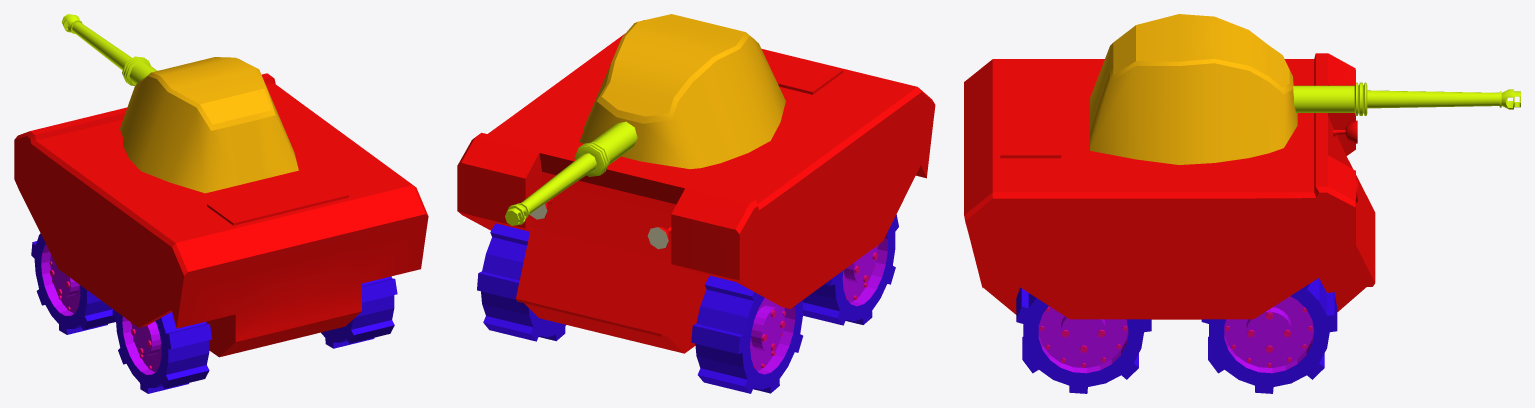
File: VK4502 Vorne.FBX
The picture shows the model from 3 angles, left to right: view 1: azimuth 30°, elevation 25°; view 2: azimuth 150°, elevation 25°; view 3: azimuth 270°, elevation 25°; orthographic projection. The views are drawn at different scales.
Parts seen in each view (by area): view 1: Body, Turret, G.W.38H_Wheel_b_left002, G.W.38H_Wheel_f_left002, G.W.38H_Wheel_b_right002, Canon; view 2: Body, Turret, G.W.38H_Wheel_f_left002, G.W.38H_Wheel_f_right002, G.W.38H_Wheel_b_left002, Canon; view 3: Body, Turret, G.W.38H_Wheel_f_right002, G.W.38H_Wheel_b_right002, Canon.
Boxes of the visible parts, x1,y1,x2,y2 form: Body: (14, 73, 428, 357); Turret: (120, 57, 298, 193); G.W.38H_Wheel_b_left002: (112, 309, 212, 393); G.W.38H_Wheel_f_left002: (31, 233, 115, 334); G.W.38H_Wheel_b_right002: (321, 276, 397, 348); Canon: (62, 14, 157, 85); Body: (457, 20, 935, 353); Turret: (579, 14, 785, 169); G.W.38H_Wheel_f_left002: (691, 275, 803, 393); G.W.38H_Wheel_f_right002: (477, 223, 565, 341); G.W.38H_Wheel_b_left002: (803, 214, 898, 325); Canon: (505, 121, 637, 225); Body: (964, 53, 1375, 319); Turret: (1090, 14, 1297, 164); G.W.38H_Wheel_f_right002: (1201, 278, 1337, 393); G.W.38H_Wheel_b_right002: (1016, 287, 1151, 393); Canon: (1293, 82, 1520, 115).
Size of the model in its own units: 2.14 by 2.13 by 3.67.
